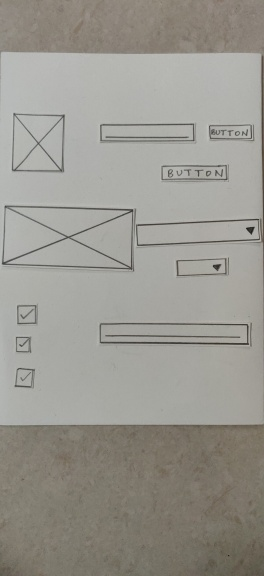button: (157, 161, 232, 183), (206, 122, 256, 143)
checkbox: (14, 302, 39, 326), (12, 366, 37, 390), (13, 334, 34, 356)
dropdown: (135, 216, 262, 246), (172, 256, 234, 278)
img: (1, 202, 136, 273), (9, 110, 68, 175)
text: (97, 319, 254, 349), (97, 120, 198, 145)
